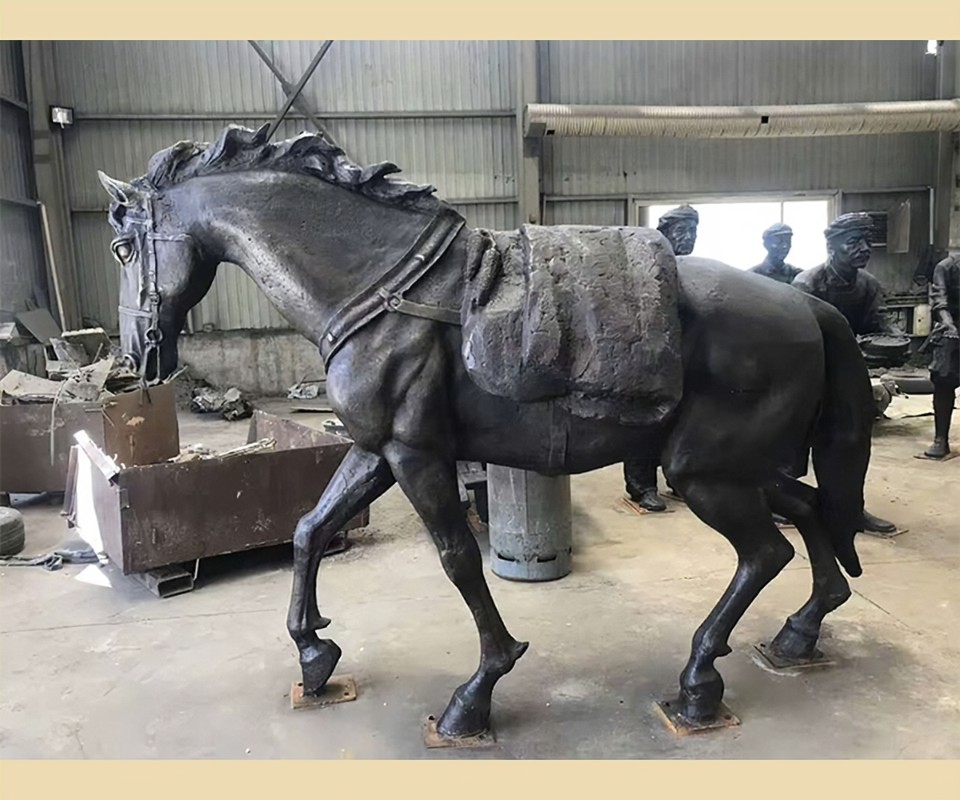background: (70, 114, 914, 750)
